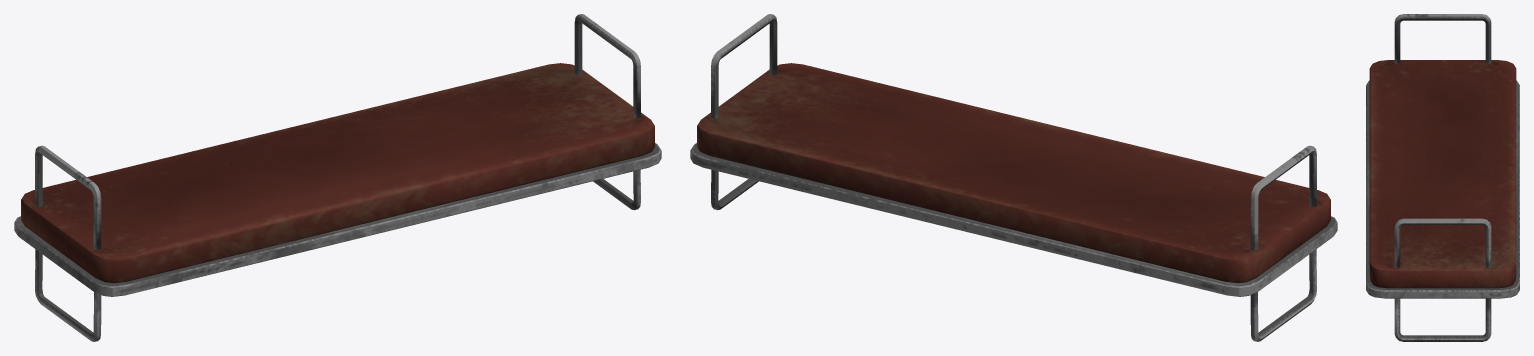
The model's file is SM_Bed.fbx.
3 renders of one model, left to right at view 1: azimuth 30°, elevation 25°; view 2: azimuth 150°, elevation 25°; view 3: azimuth 270°, elevation 25°, orthographic. The views are drawn at different scales.
Parts seen in each view (by area): view 1: SM_Bed; view 2: SM_Bed; view 3: SM_Bed.
Part boxes in pixels (left/top/right/bottom): SM_Bed: left=14, top=14, right=661, bottom=341; SM_Bed: left=690, top=14, right=1337, bottom=341; SM_Bed: left=1366, top=14, right=1519, bottom=341.
Bounding box in the file's own units: 1.71 × 0.5197 × 0.4548.
